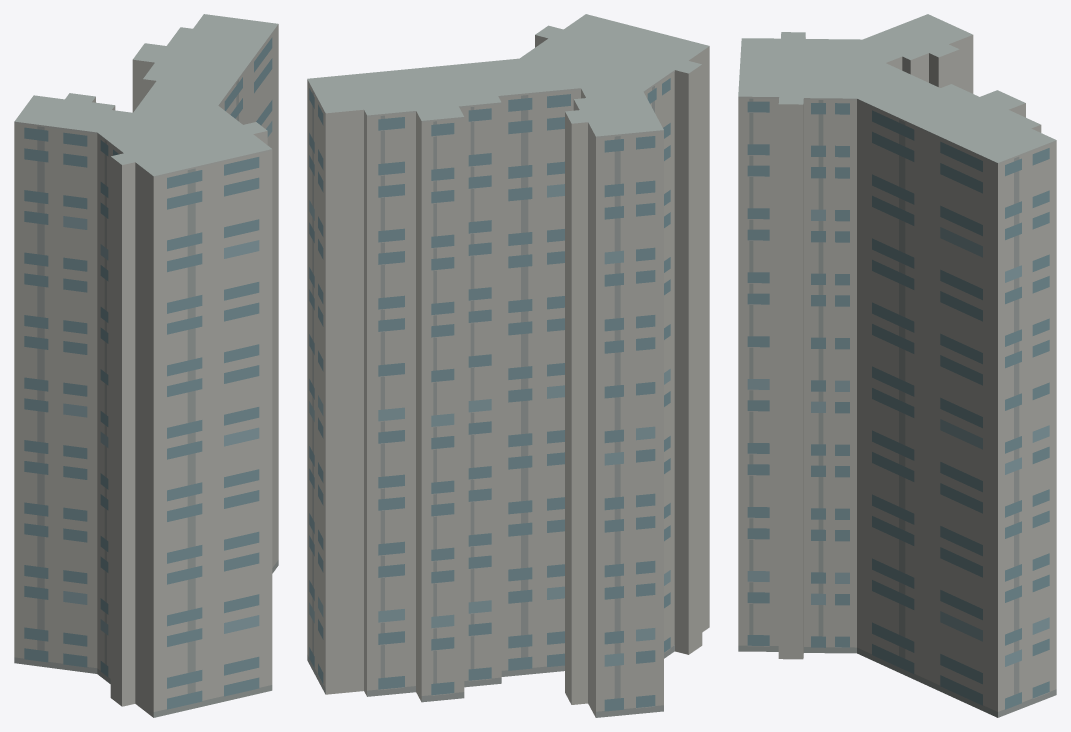
The model's file is residential-aea21046-3ac8-4e89-b8b9-e5e74d2e3d71.glb.
3 views of the same model, side by side, from view 1: azimuth 30°, elevation 25°; view 2: azimuth 150°, elevation 25°; view 3: azimuth 270°, elevation 25° (orthographic). The views are drawn at different scales.
Parts seen in each view (by area): view 1: residential-aea21046-3ac8-4e89-b8b9-e5e74d2e3d71.tmp; view 2: residential-aea21046-3ac8-4e89-b8b9-e5e74d2e3d71.tmp; view 3: residential-aea21046-3ac8-4e89-b8b9-e5e74d2e3d71.tmp.
Boxes of the visible parts, box(x1,y1,x2,y2) form: residential-aea21046-3ac8-4e89-b8b9-e5e74d2e3d71.tmp: box(14, 14, 278, 717); residential-aea21046-3ac8-4e89-b8b9-e5e74d2e3d71.tmp: box(307, 14, 709, 717); residential-aea21046-3ac8-4e89-b8b9-e5e74d2e3d71.tmp: box(738, 14, 1056, 717).
Size of the model in its own units: 45.55 by 79 by 41.12.
